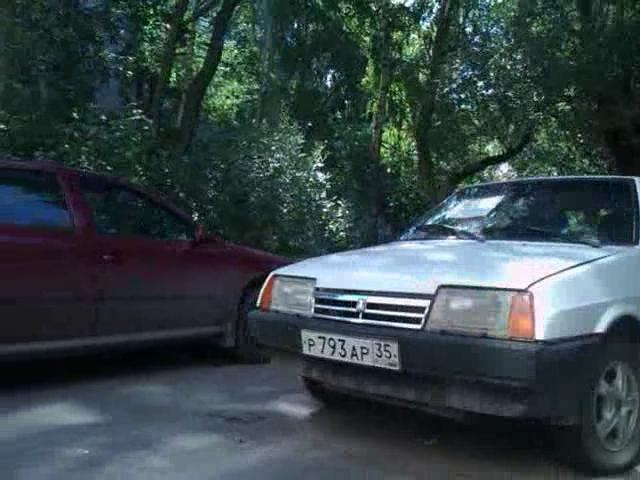car license plate: (299, 326, 402, 375)
